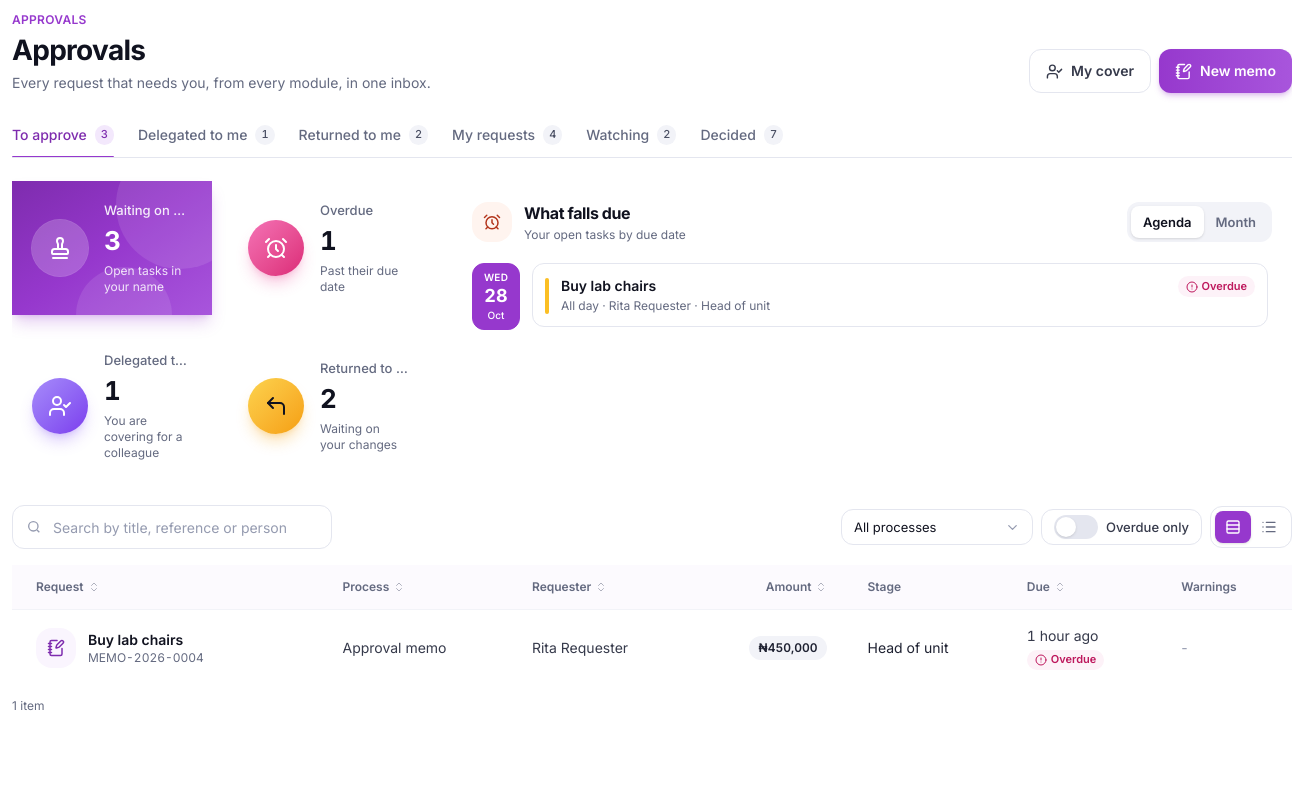
Test case: the approvals inbox › switches tab and asks the server for that tab
The image size is (1292, 812).
Click the tab "My requests 4": (507, 135) [452,113,562,157]
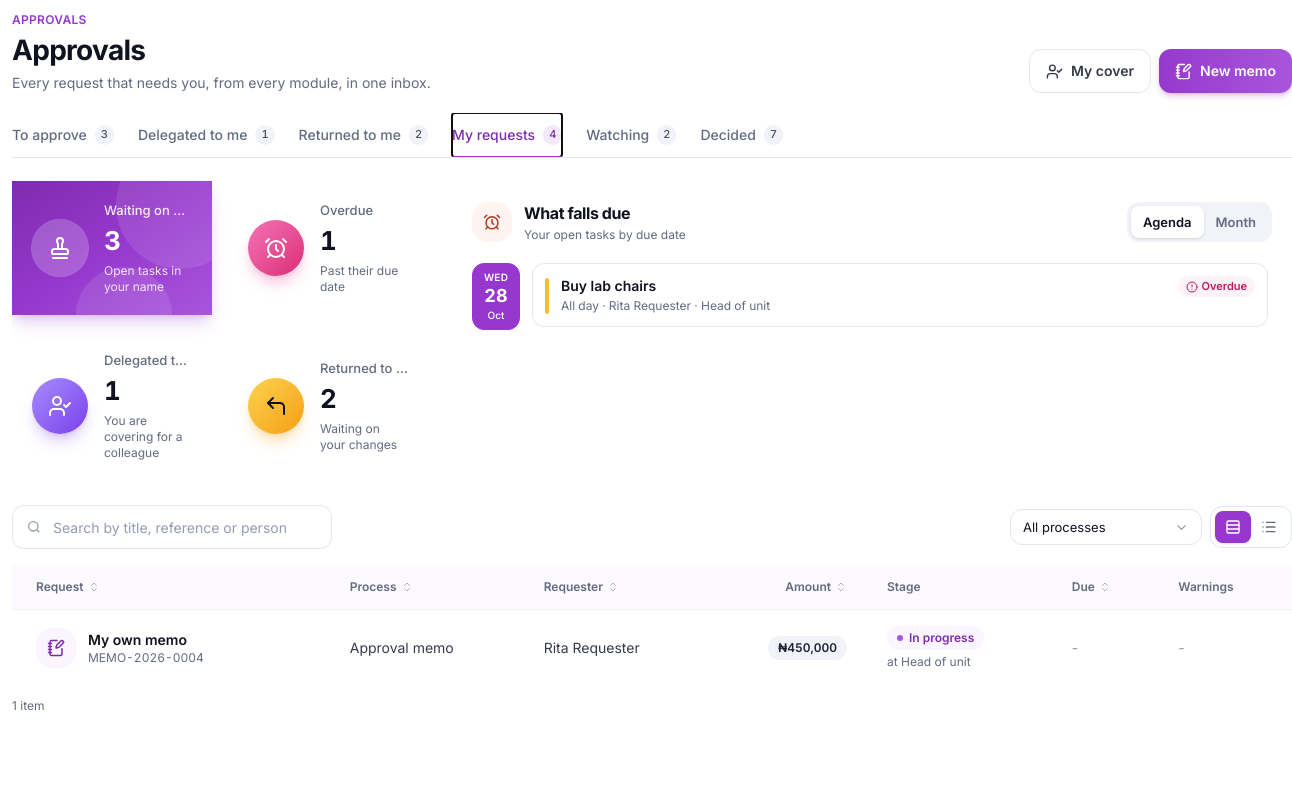
Expected: the text "My own memo" is shown, [88,630,204,650]
